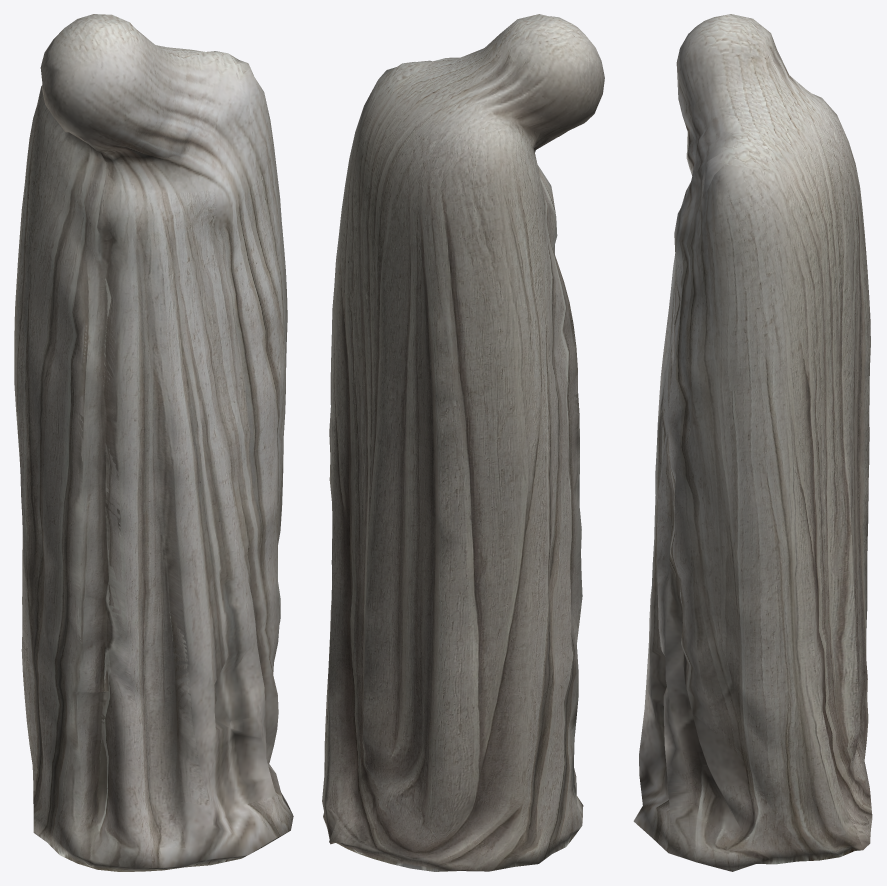
File: FullFigure_turnedLeft_v1.glb
The picture shows the model from 3 angles, left to right: view 1: azimuth 30°, elevation 25°; view 2: azimuth 150°, elevation 25°; view 3: azimuth 270°, elevation 25°; orthographic projection. The views are drawn at different scales.
Visible parts, largest first — view 1: texture_mapping; view 2: texture_mapping; view 3: texture_mapping.
Part boxes in pixels (x1=…): texture_mapping: x1=14, y1=14, x2=293, y2=871; texture_mapping: x1=322, y1=14, x2=604, y2=871; texture_mapping: x1=633, y1=14, x2=872, y2=871.
Size of the model in its own units: 0.3125 by 1 by 0.2814.
Materials: 1 (1 with a texture image).
